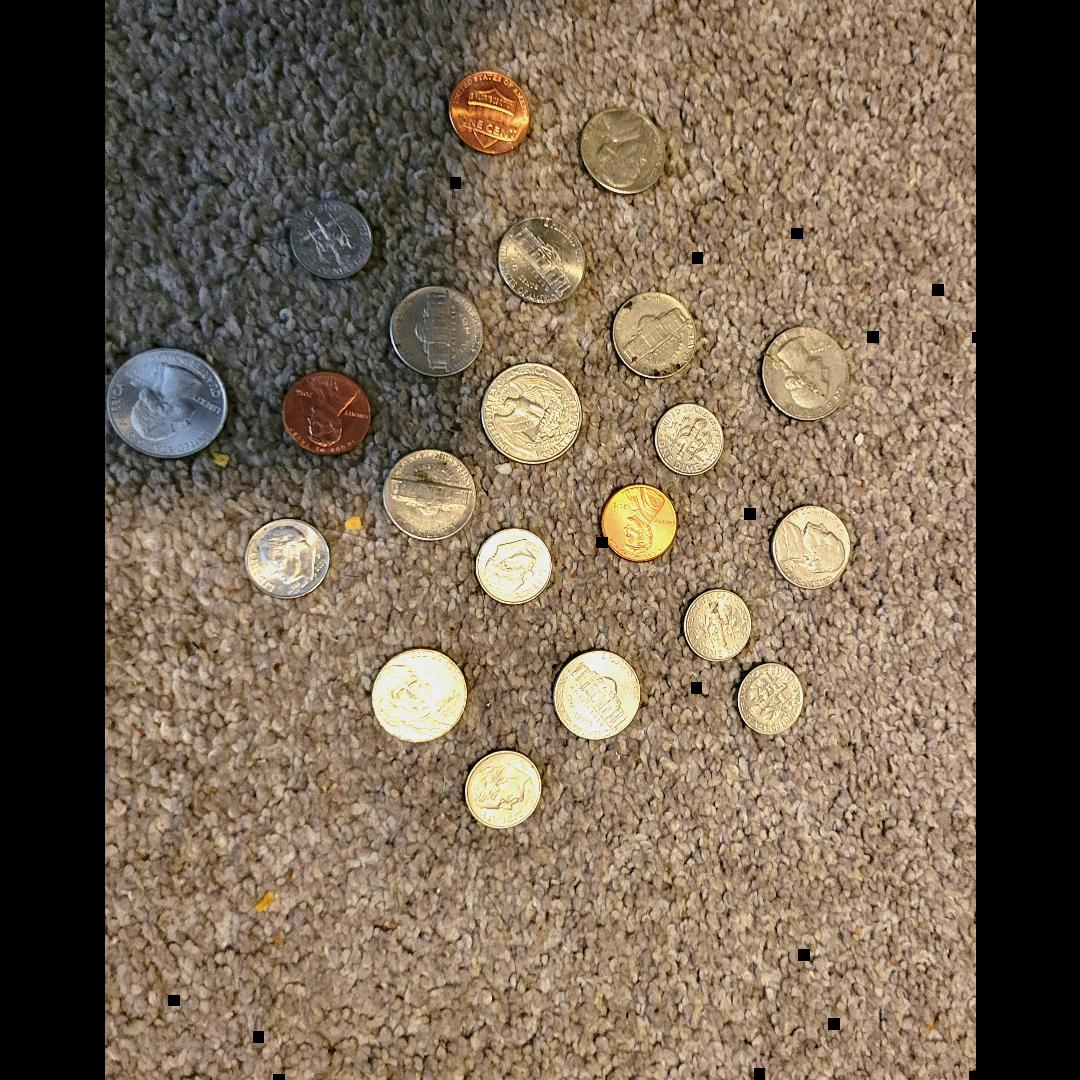Dime: (244, 514, 334, 602), (644, 394, 734, 482), (286, 198, 378, 282), (470, 528, 558, 608), (676, 587, 756, 668), (462, 749, 542, 828), (731, 662, 808, 736)
Nickel: (384, 284, 486, 382), (370, 646, 472, 742), (378, 448, 480, 544), (545, 647, 647, 742), (572, 106, 672, 200), (606, 288, 698, 384), (492, 216, 586, 308), (766, 502, 854, 594)
Penny: (278, 366, 375, 458), (440, 68, 536, 160), (598, 478, 684, 564)
Quarter: (109, 345, 233, 463), (476, 359, 584, 465), (758, 330, 851, 422)
